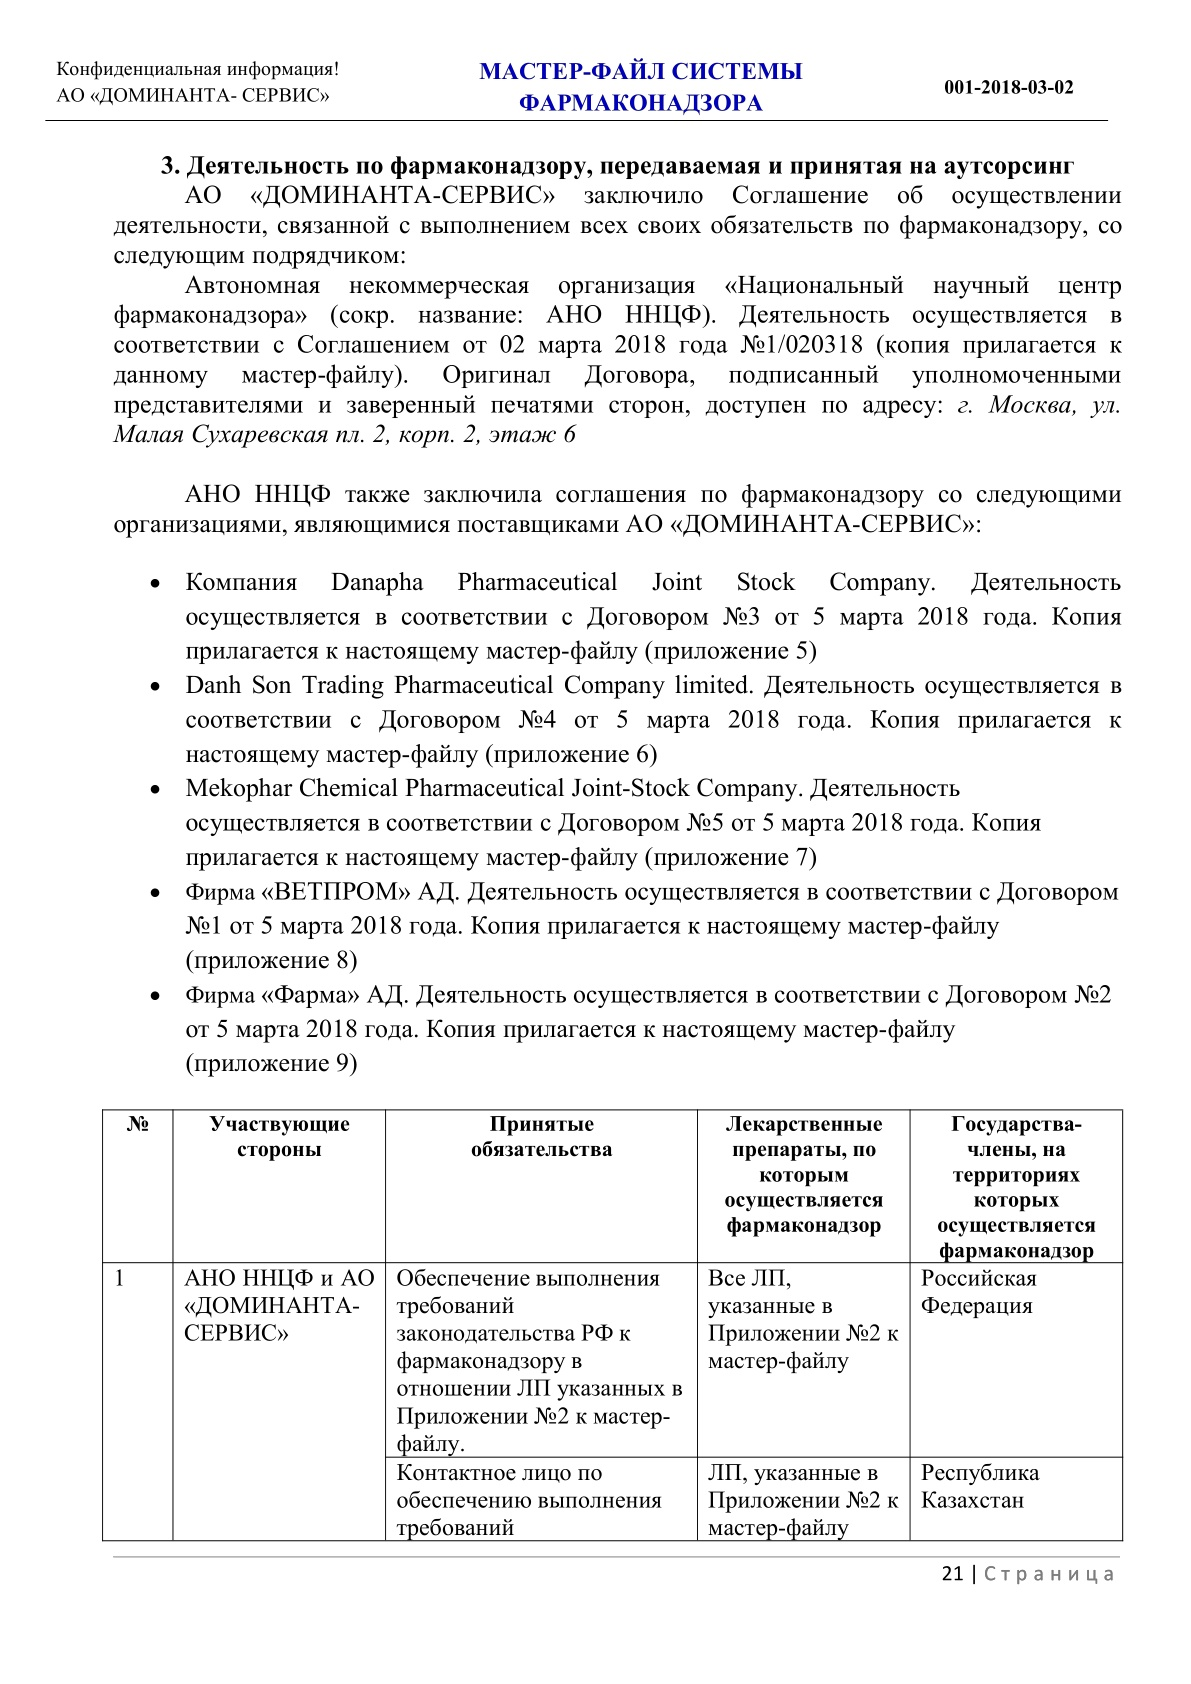full_lined: (102, 1109, 1124, 1542)
